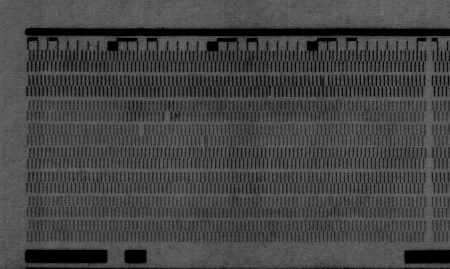Broken hole: (161, 110, 173, 124), (137, 124, 147, 138)
Oblique printing: (319, 72, 329, 88), (198, 135, 209, 149), (265, 87, 277, 99)
